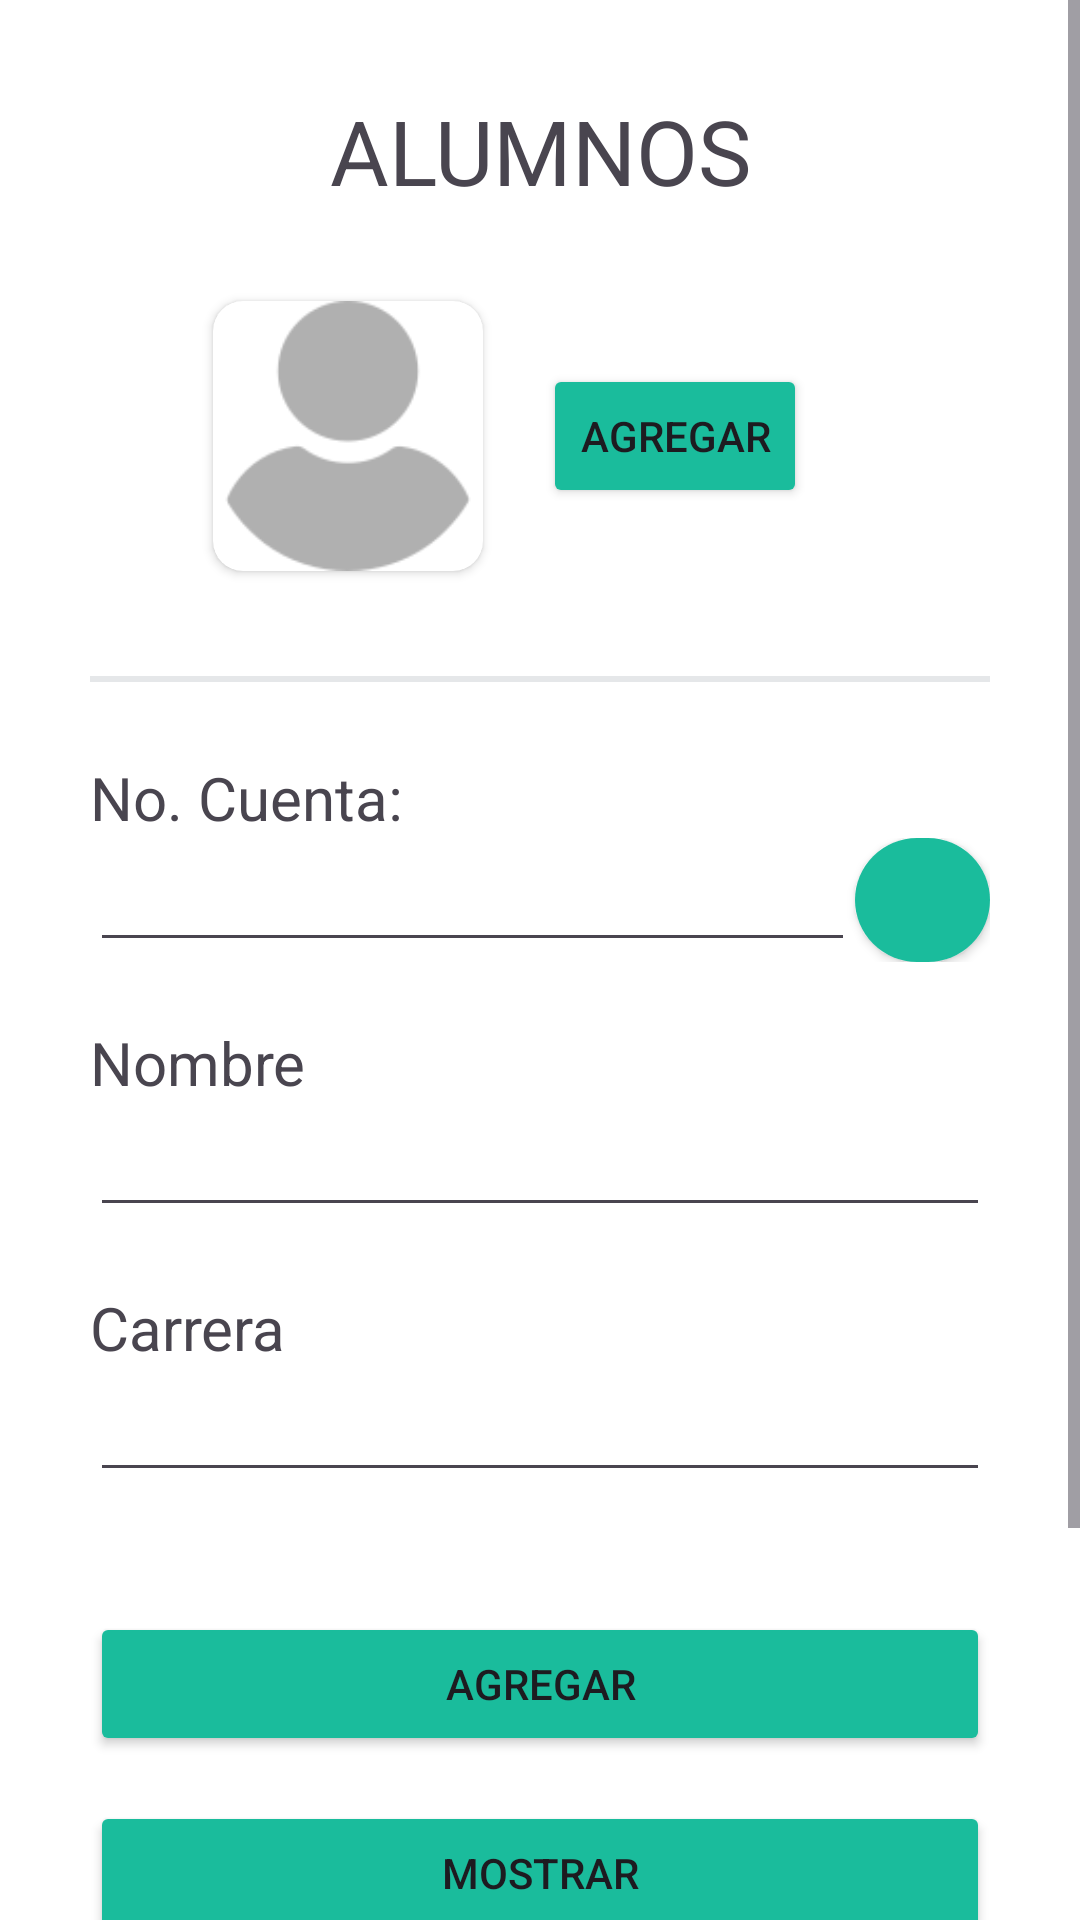

Point at icon controls on the screen. Image size 1080x1920, points as (x=x, y=y).
usuario: (x=348, y=436)
